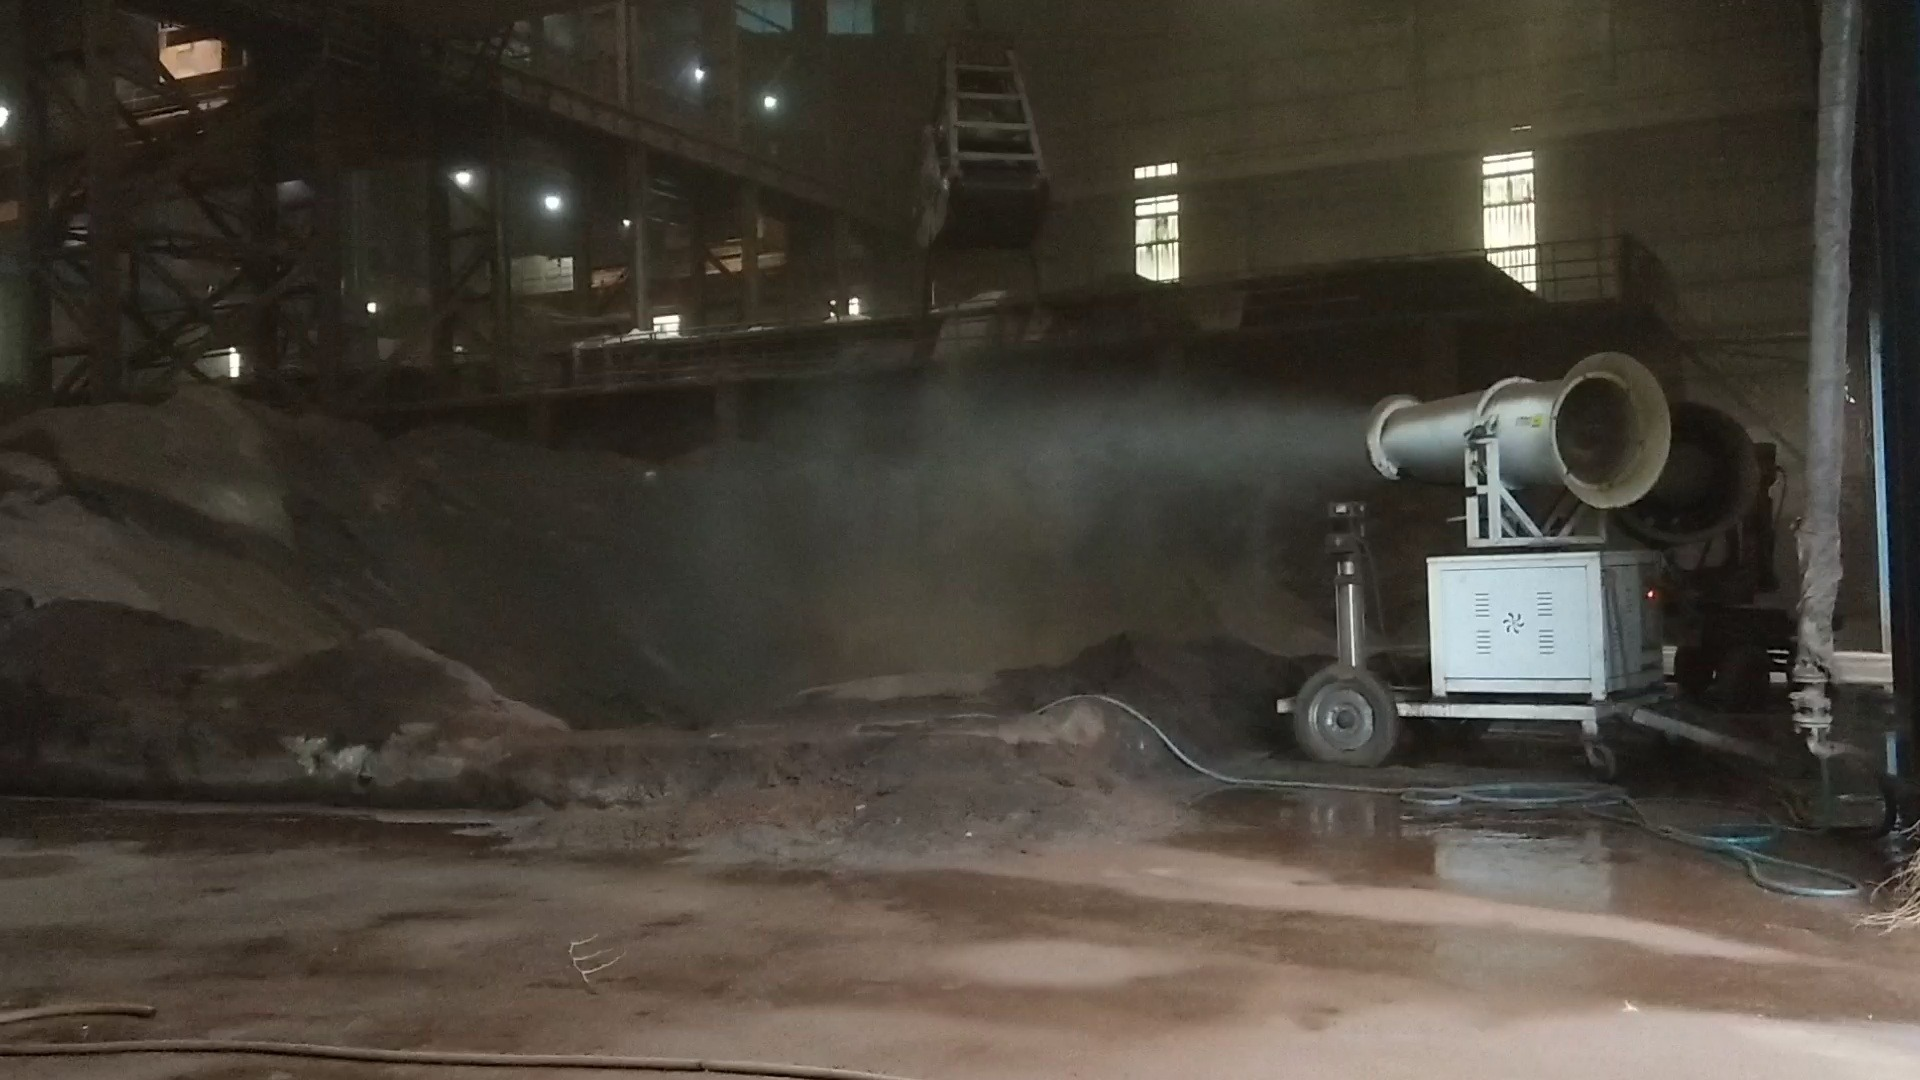dust: (752, 353, 1350, 558)
grab: (895, 7, 1058, 265)
